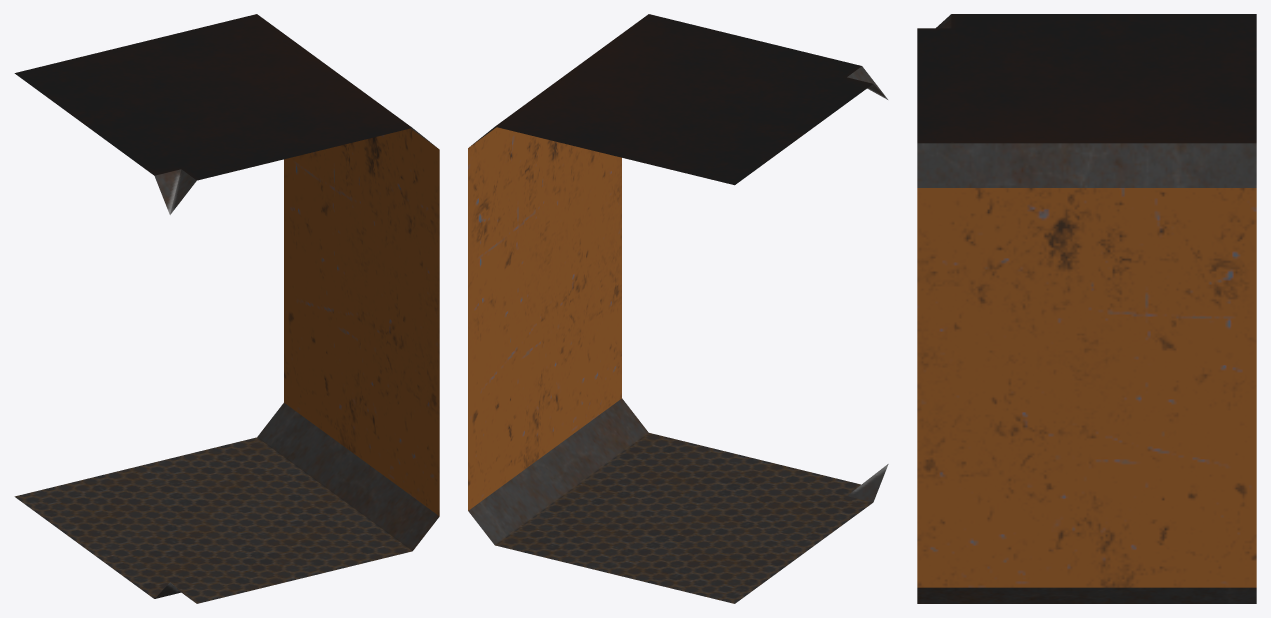
File: FloorSide2CornerLeft.fbx
The picture shows the model from 3 angles, left to right: view 1: azimuth 30°, elevation 25°; view 2: azimuth 150°, elevation 25°; view 3: azimuth 270°, elevation 25°; orthographic projection. The views are drawn at different scales.
Visible parts, largest first — view 1: FloorSide2CornerLeft; view 2: FloorSide2CornerLeft; view 3: FloorSide2CornerLeft.
Boxes of the visible parts, bbox=[...] form: FloorSide2CornerLeft: bbox=[14, 14, 439, 603]; FloorSide2CornerLeft: bbox=[468, 14, 888, 603]; FloorSide2CornerLeft: bbox=[917, 14, 1256, 603].
Size of the model in its own units: 200 by 300 by 200.
1 material, 1 textured.
